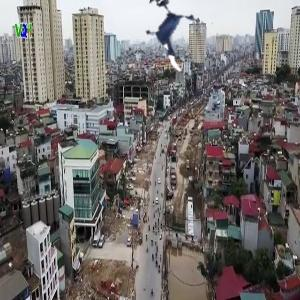drone: (141, 3, 209, 71)
